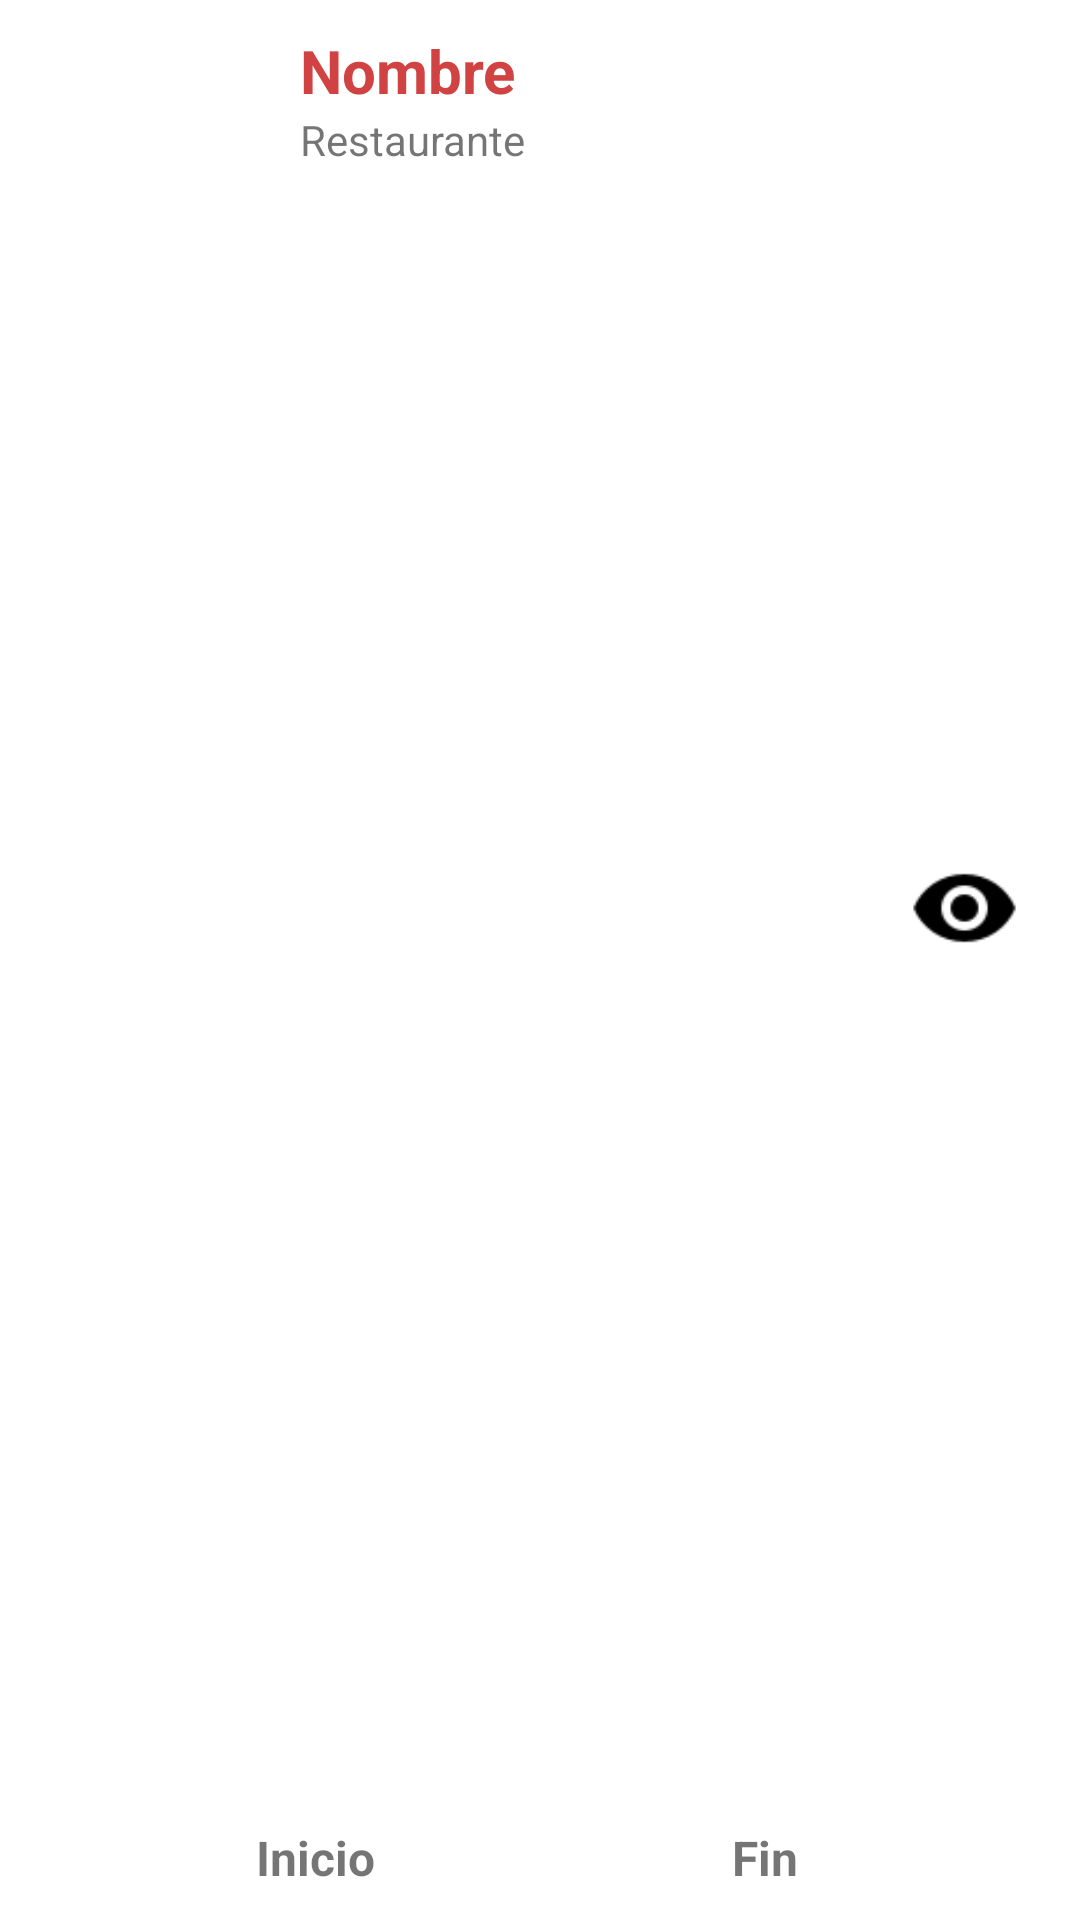

Screen size 1080 × 1920. Icon name, then its box in pixels as (x1, y1, x2, y2):
ojo: (913, 873, 1016, 943)
